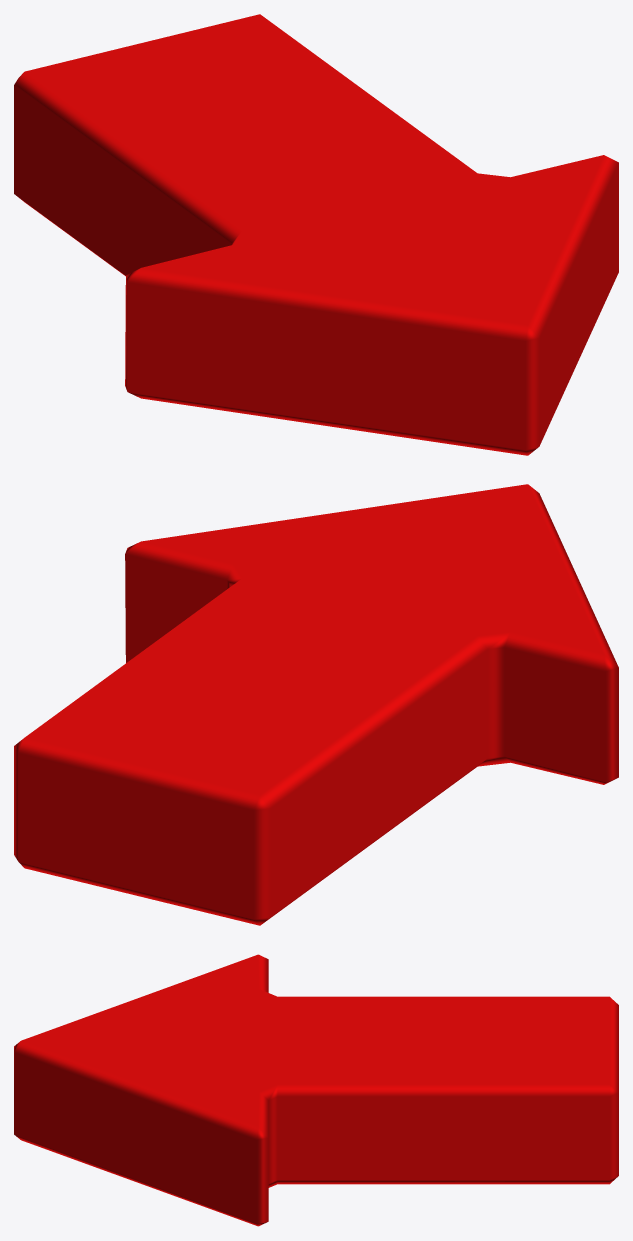
File: Arrow_Model.fbx
The picture shows the model from 3 angles, top to bottom: view 1: azimuth 30°, elevation 25°; view 2: azimuth 150°, elevation 25°; view 3: azimuth 270°, elevation 25°; orthographic projection. The views are drawn at different scales.
Visible parts, largest first — view 1: SM_Arrow_02; view 2: SM_Arrow_02; view 3: SM_Arrow_02.
Part boxes in pixels (x1=…): SM_Arrow_02: x1=14, y1=14, x2=618, y2=455; SM_Arrow_02: x1=14, y1=484, x2=618, y2=925; SM_Arrow_02: x1=14, y1=954, x2=618, y2=1226.
Bounding box in the file's own units: 0.9805 × 0.2489 × 1.37.
